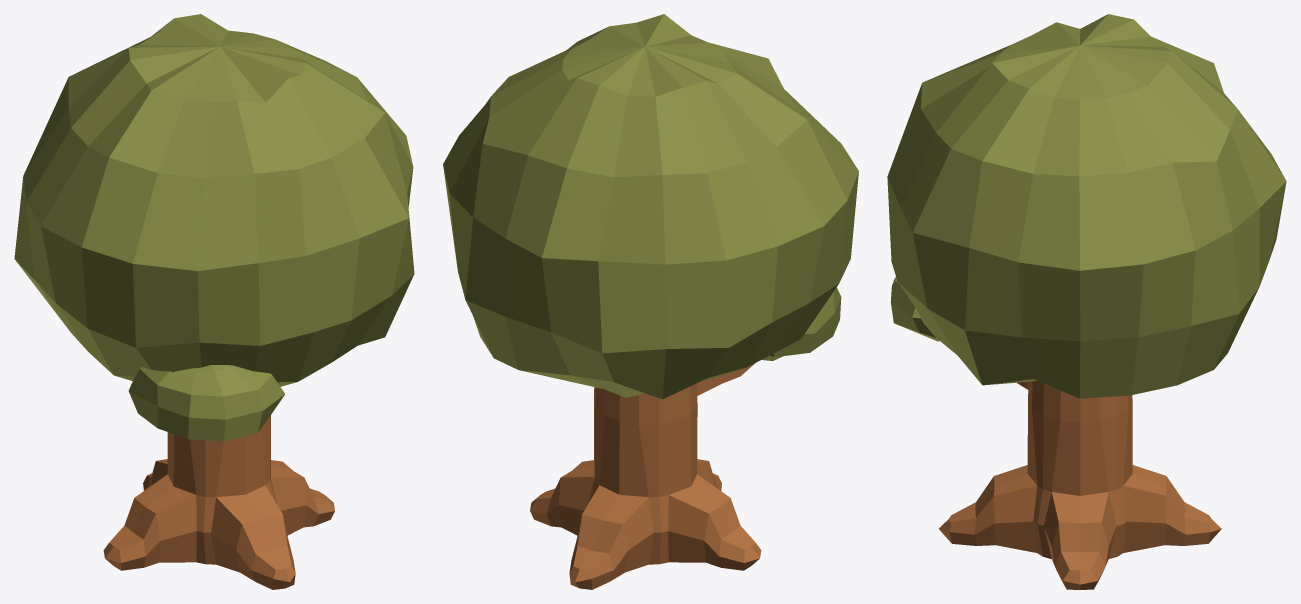
File: tree (1).fbx
3 views of the same model, side by side, from view 1: azimuth 30°, elevation 25°; view 2: azimuth 150°, elevation 25°; view 3: azimuth 270°, elevation 25° (orthographic).
Visible parts, largest first — view 1: big leaves, tree body, Sphere; view 2: big leaves, tree body, Sphere; view 3: big leaves, tree body, Sphere.
Part boxes in pixels (<box>): big leaves: <box>14,14,414,386</box>; tree body: <box>103,415,334,589</box>; Sphere: <box>128,365,284,441</box>; big leaves: <box>443,14,858,399</box>; tree body: <box>530,363,761,589</box>; Sphere: <box>761,287,841,360</box>; big leaves: <box>887,14,1286,398</box>; tree body: <box>939,381,1221,589</box>; Sphere: <box>890,277,939,341</box>.
Bounding box in the file's own units: 401 × 520 × 380.
